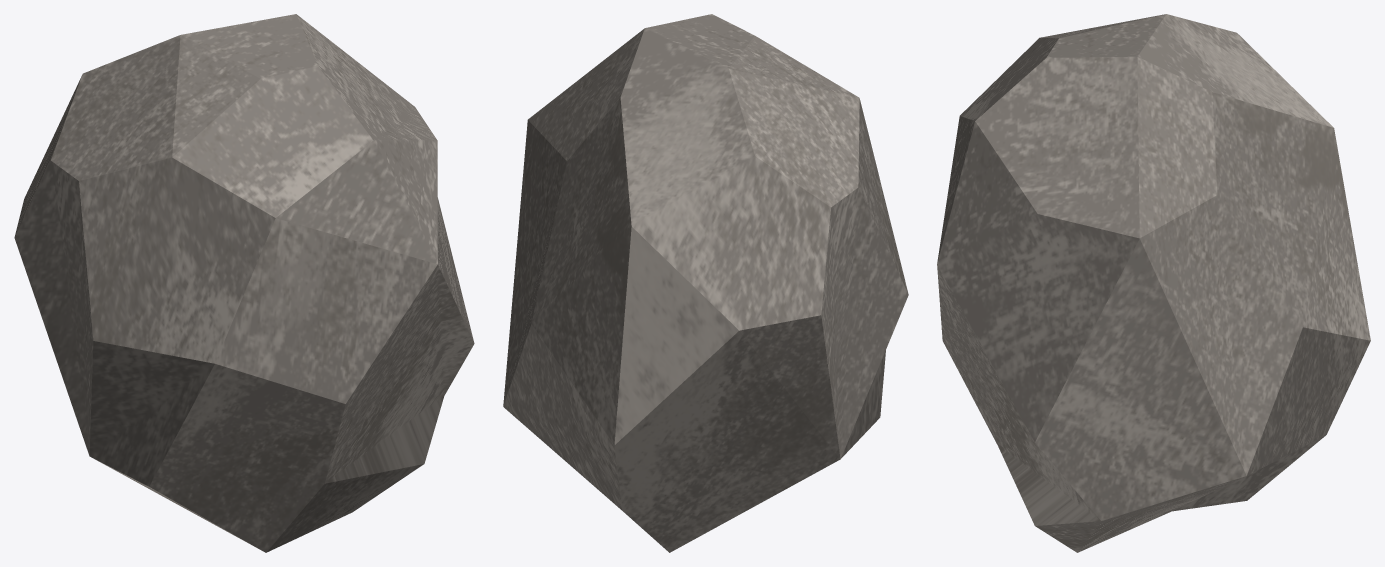
The model's file is Piedra1.fbx.
The picture shows the model from 3 angles, left to right: view 1: azimuth 30°, elevation 25°; view 2: azimuth 150°, elevation 25°; view 3: azimuth 270°, elevation 25°; orthographic projection. The views are drawn at different scales.
Parts seen in each view (by area): view 1: Piedra 1; view 2: Piedra 1; view 3: Piedra 1.
Boxes of the visible parts, left/top/right/bottom form: Piedra 1: left=14, top=14, right=474, bottom=552; Piedra 1: left=503, top=14, right=908, bottom=552; Piedra 1: left=937, top=14, right=1370, bottom=552.
Size of the model in its own units: 158 by 198 by 161.
